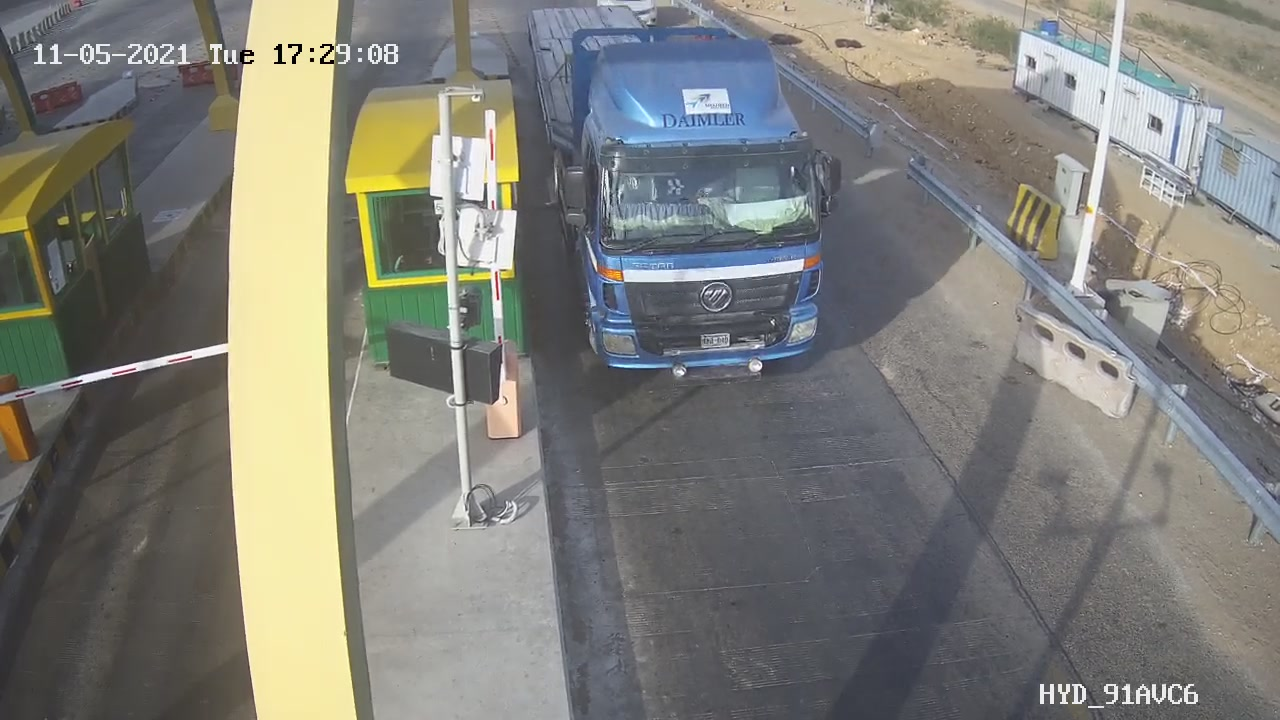F6: (513, 3, 863, 408)
